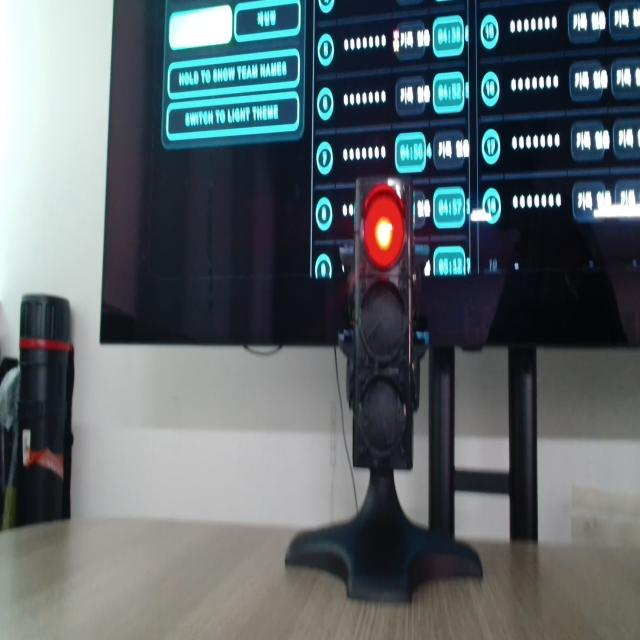red_light: (364, 185, 405, 269)
